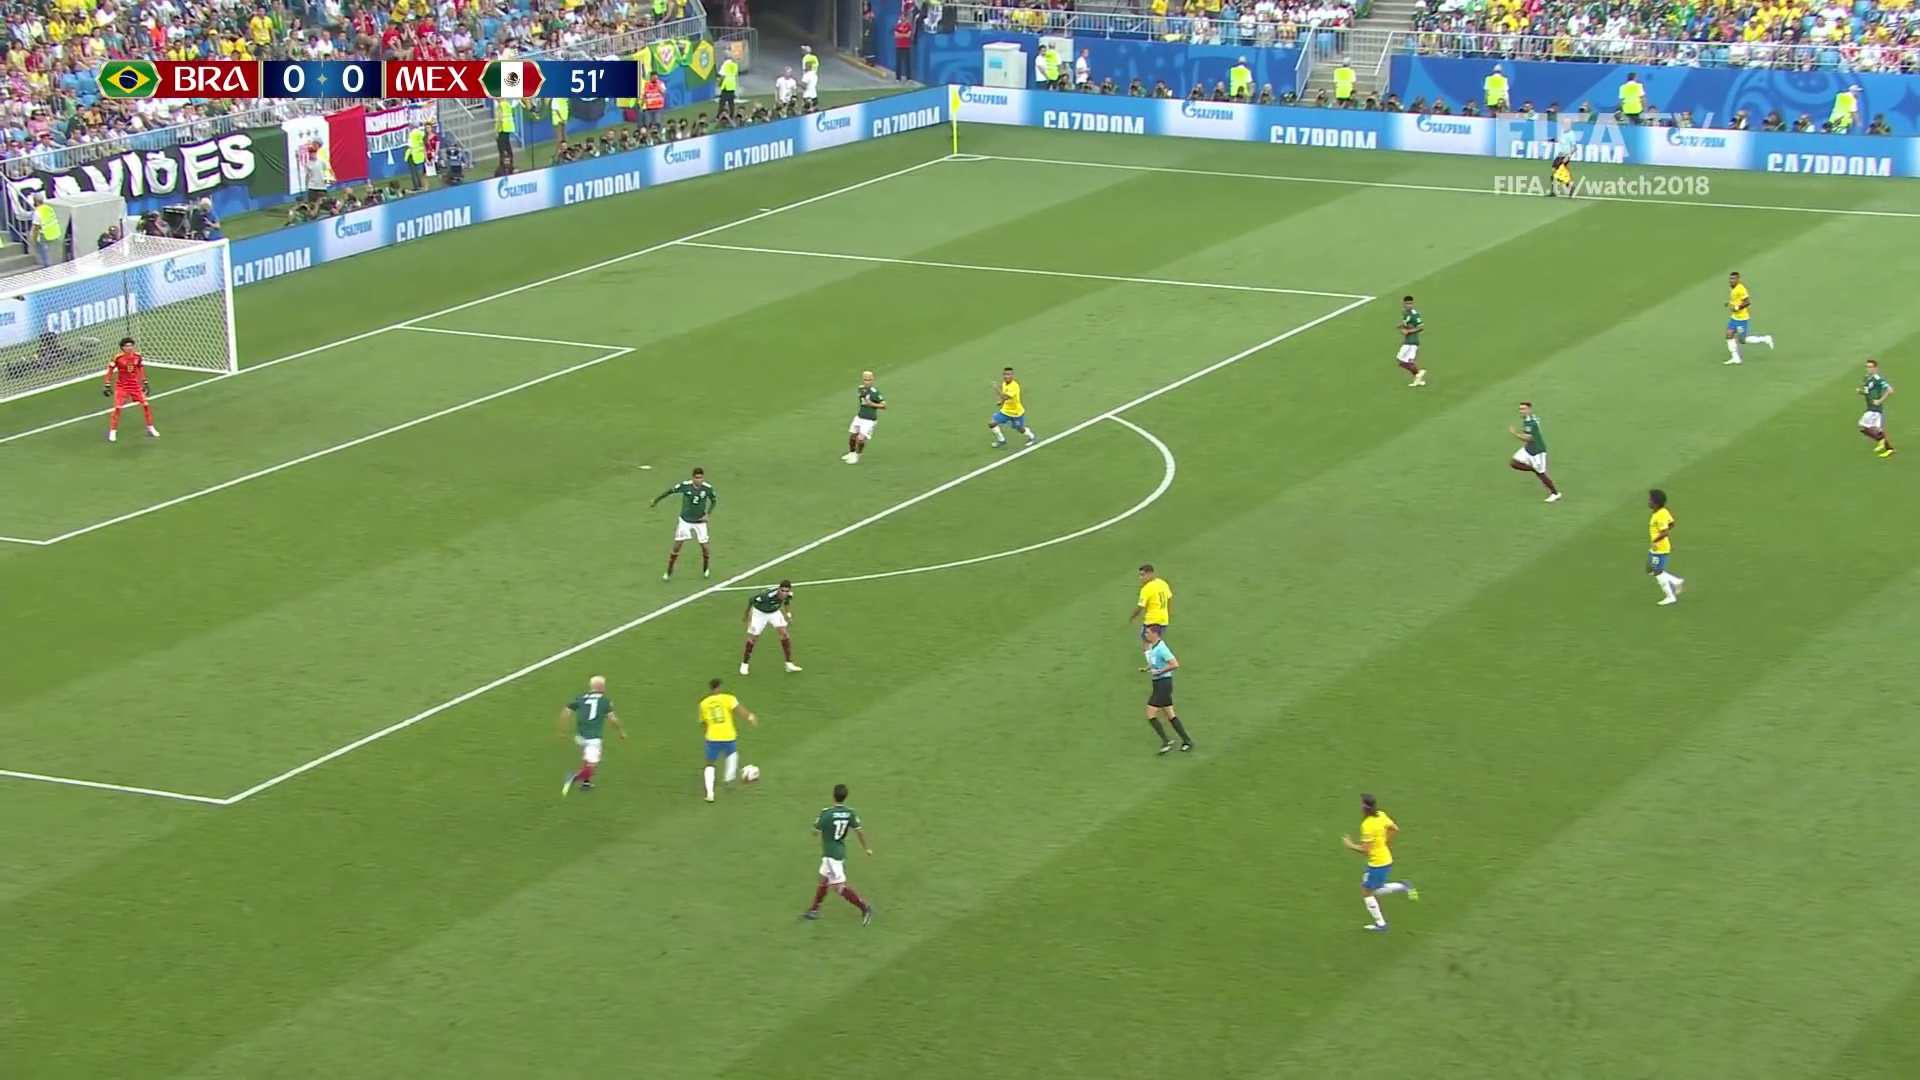ball: (742, 764, 759, 780)
person: (800, 782, 874, 926), (1342, 793, 1415, 932), (559, 672, 624, 795), (656, 467, 716, 581), (738, 578, 800, 674), (693, 680, 743, 798), (104, 338, 159, 440), (1509, 402, 1562, 502), (1642, 489, 1687, 606), (1719, 270, 1771, 365), (1856, 359, 1897, 457), (841, 369, 884, 464), (987, 364, 1032, 450), (1132, 563, 1173, 634), (1393, 295, 1424, 389)
